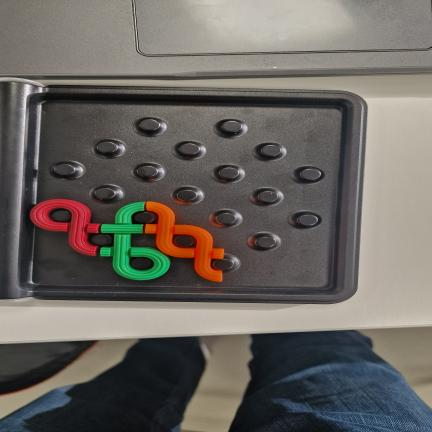D_Green: (100, 202, 170, 280)
I_Orange: (145, 202, 224, 281)
J_DarkRed: (30, 200, 101, 255)
board: (0, 82, 366, 304)
hinge: (0, 82, 37, 305)
pin: (133, 211, 156, 224), (131, 257, 154, 270), (260, 144, 281, 158), (137, 165, 158, 179), (139, 119, 161, 132), (96, 141, 118, 154), (299, 168, 321, 181), (173, 235, 196, 247), (221, 121, 242, 134), (179, 143, 200, 156), (50, 209, 71, 222), (255, 236, 276, 249), (54, 164, 76, 176), (257, 191, 279, 203), (214, 258, 234, 271), (218, 167, 239, 179), (177, 189, 198, 201), (95, 188, 116, 200), (216, 213, 237, 225), (297, 214, 318, 226), (91, 234, 112, 246)
